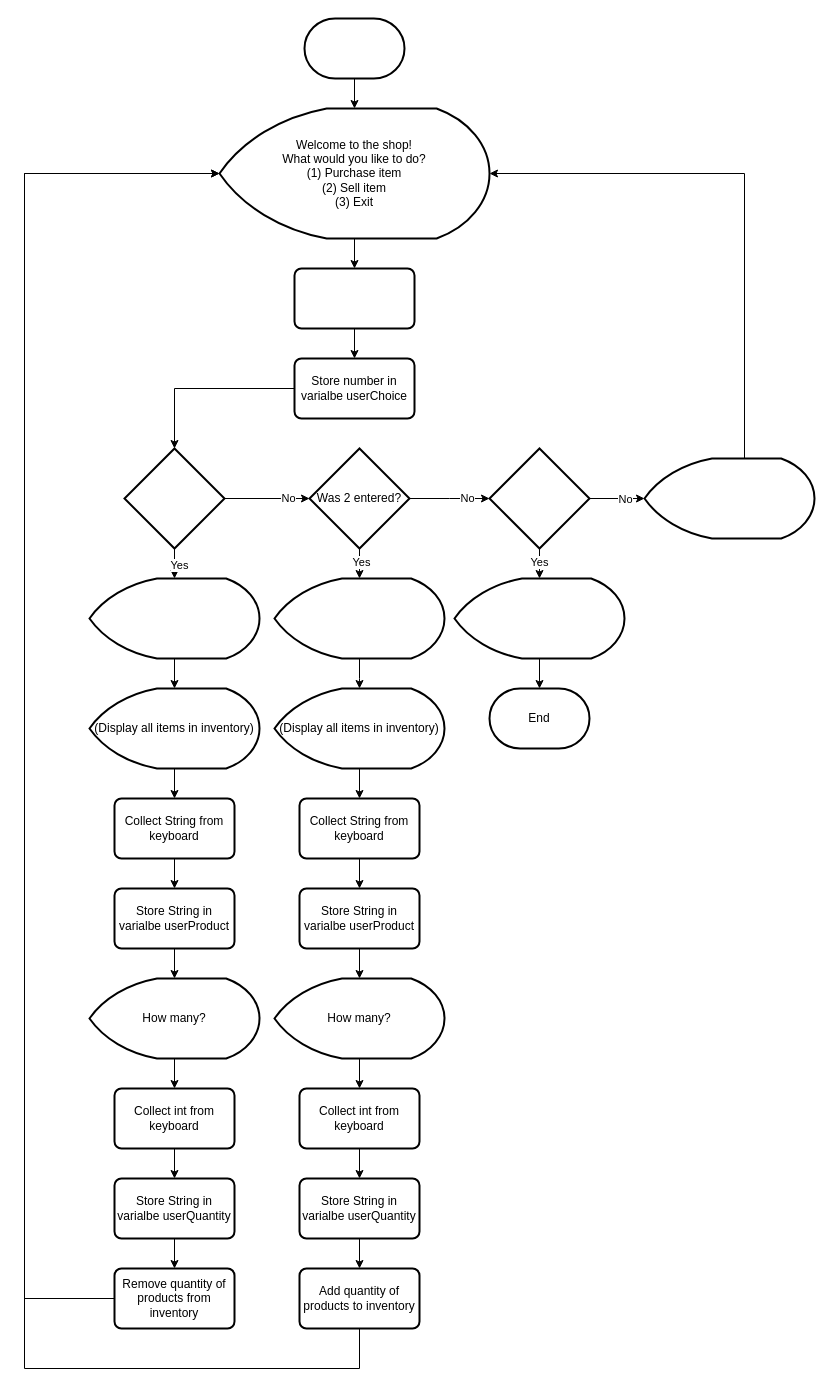
Some shapes in this 833 by 1394 pixel diagram are drawn without their labels. The centre of each missing label's shape, as x and y in pixels:
"Collect number from keyboard" goes at point 354,298.
"Invalid input. Please select a number from 1 to 3" goes at point 729,498.
"Start" goes at point 354,48.
"Thanks for shoppijng!" goes at point 539,618.
"Was 1 entered?" goes at point 174,498.
"Was 3 entered?" goes at point 539,498.
"What item would you like to purchase?" goes at point 174,618.
"What item would you like to sell?" goes at point 359,618.
